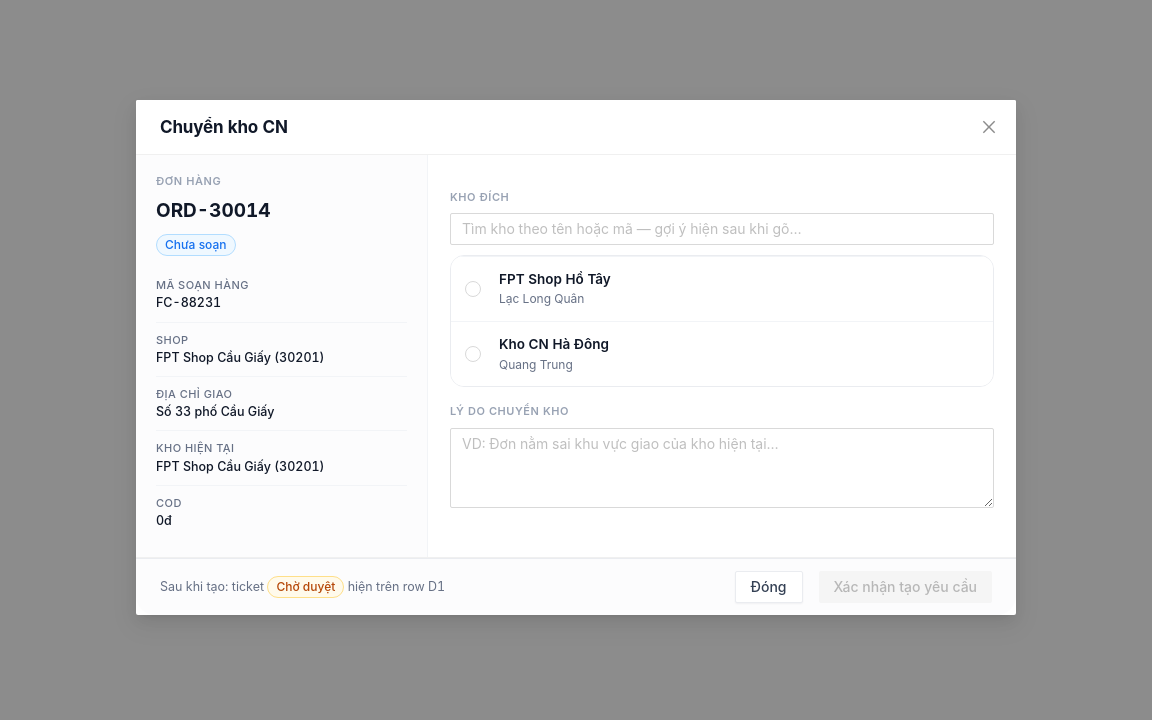
Test case: TransferHubModal — tạo ticket chuyển kho (SF-28 T2) › mutation 409 trùng PENDING → message.error hiển thị message BFF + modal GIỮ MỞ
This screenshot has width=1152, height=720.
Click the option with test id "transfer-hub-target" showing "FPT Shop Hồ Tây Lạc Long Quân".
click(555, 279)  # box [451,256,993,321]
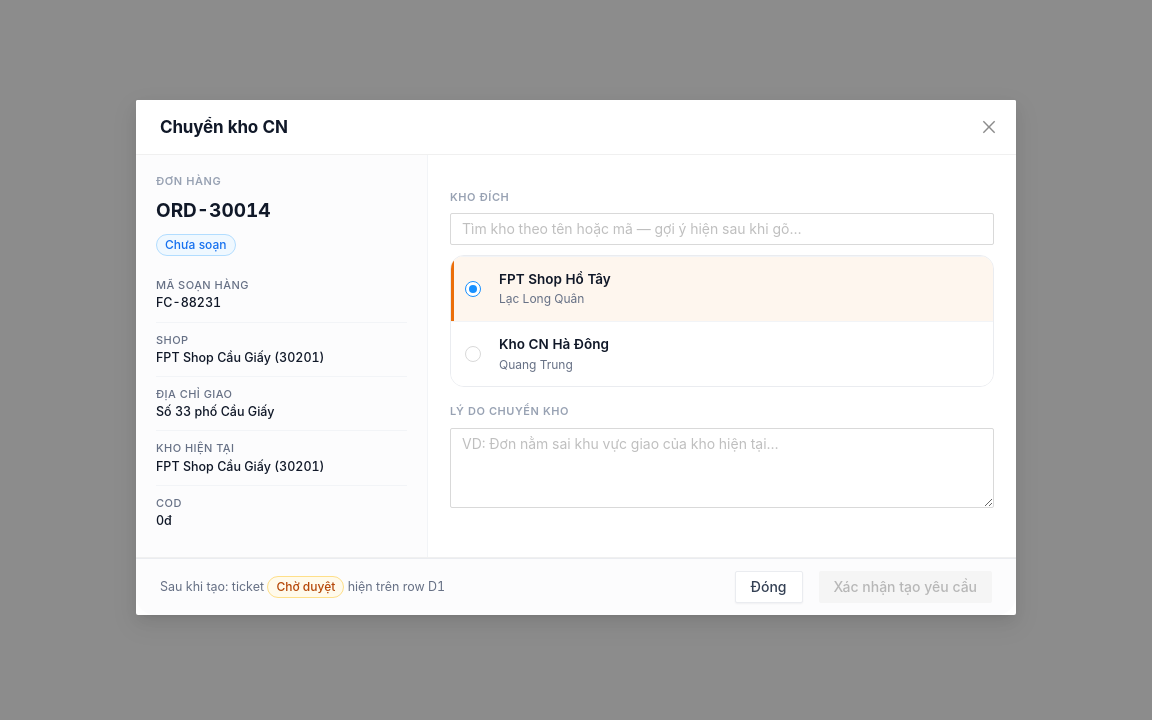
Type "Chuyển kho gấp" into the text box with test id "transfer-hub-reason".
click(722, 468); type("Chuyển kho gấp")  # box [450,428,994,508]
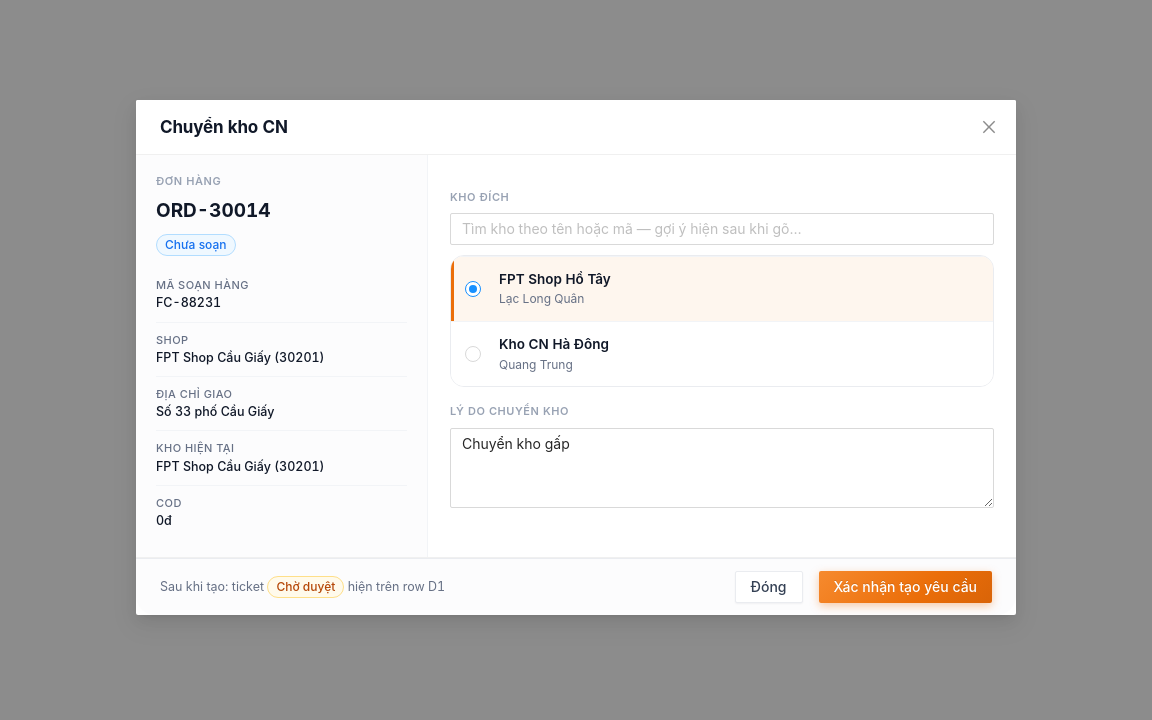
Click the button with test id "transfer-hub-confirm".
click(905, 587)  # box [818,571,992,603]
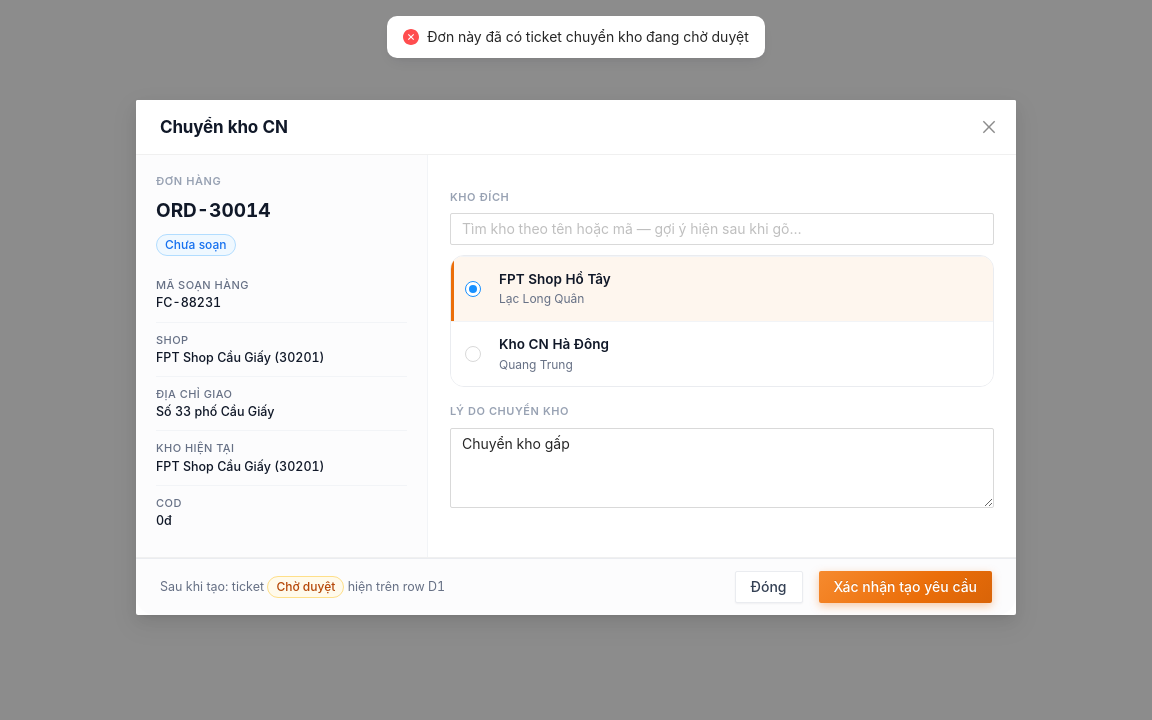
Check: the element with test id "transfer-hub-modal" is shown, box [136,155,1016,557]
Check: the button with test id "transfer-hub-confirm" is enabled, box [818,571,992,603]
Check: the text "Đơn này đã có ticket chuyển kho đang chờ duyệt" is shown, box [427,28,749,45]
